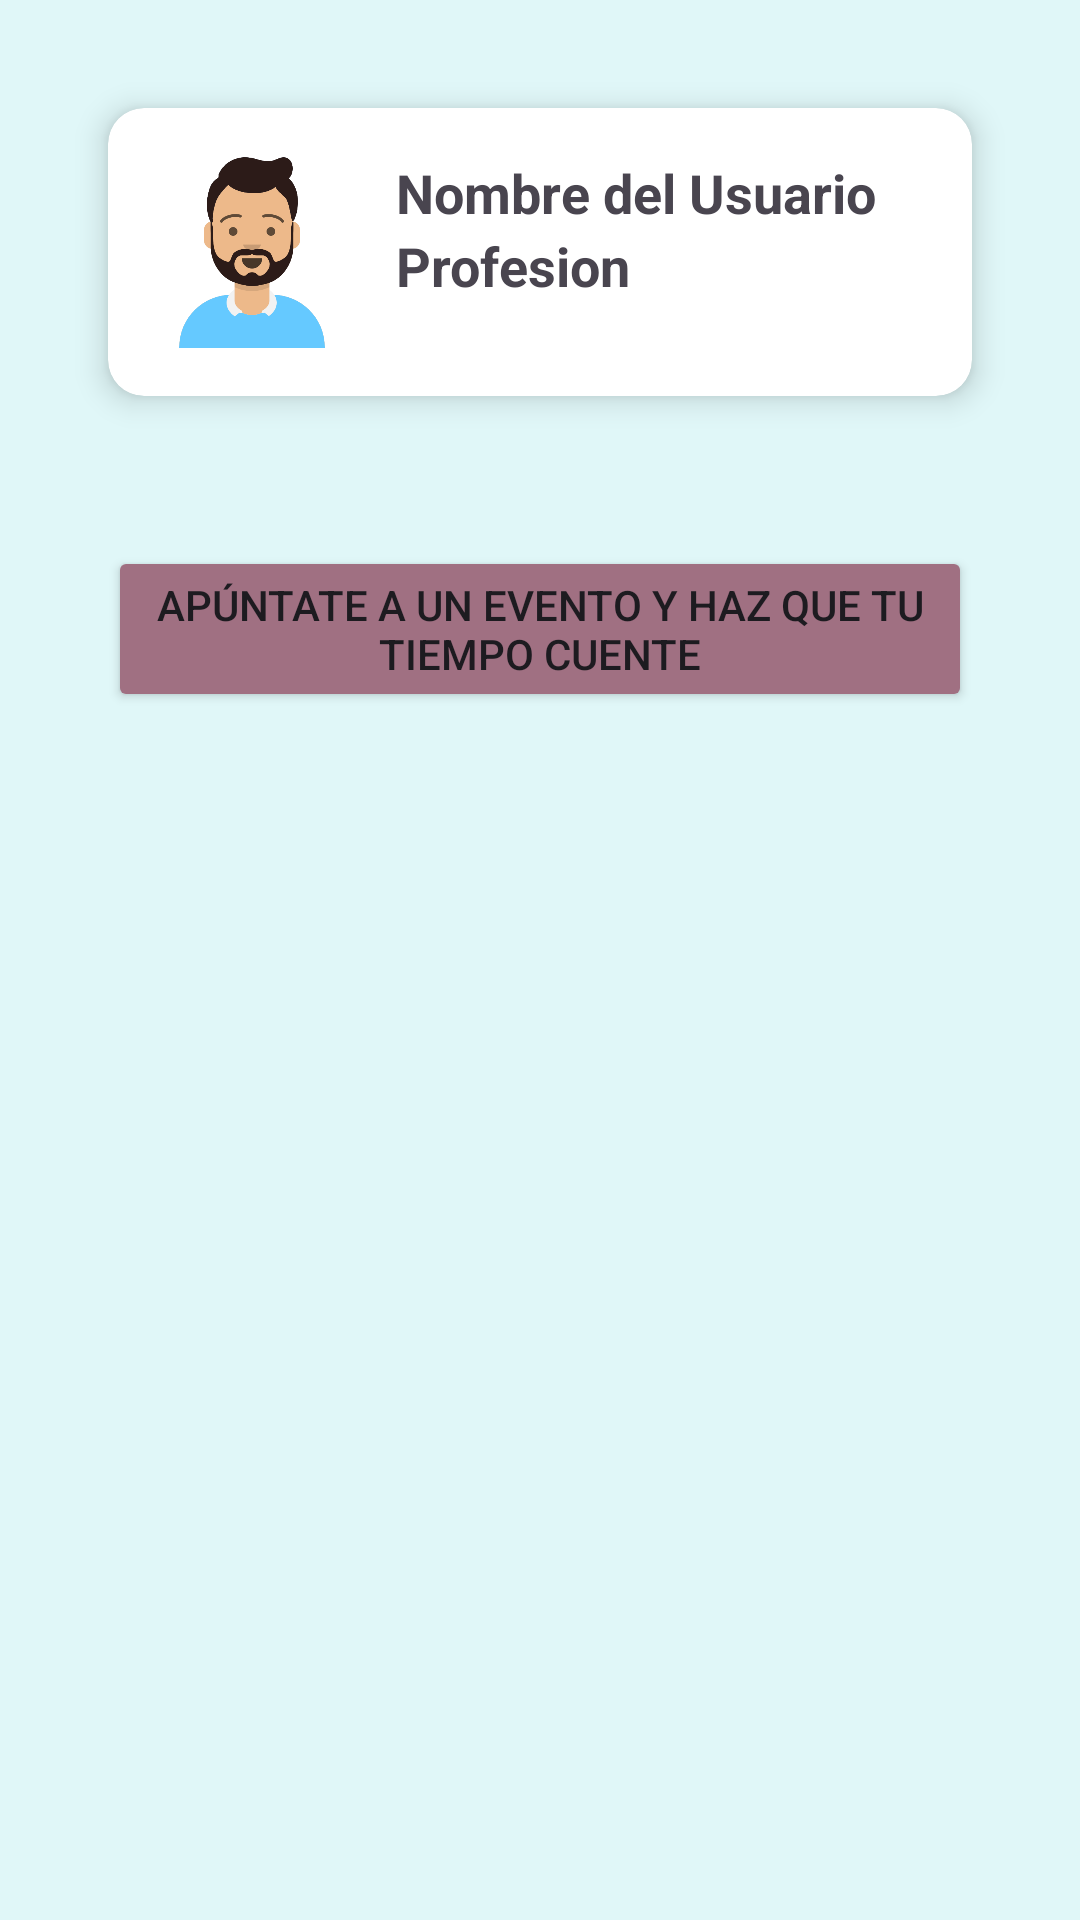

Named icons in this screenshot (1080 × 1920) and their centers, [x,y]:
Avatar: [252,252]
